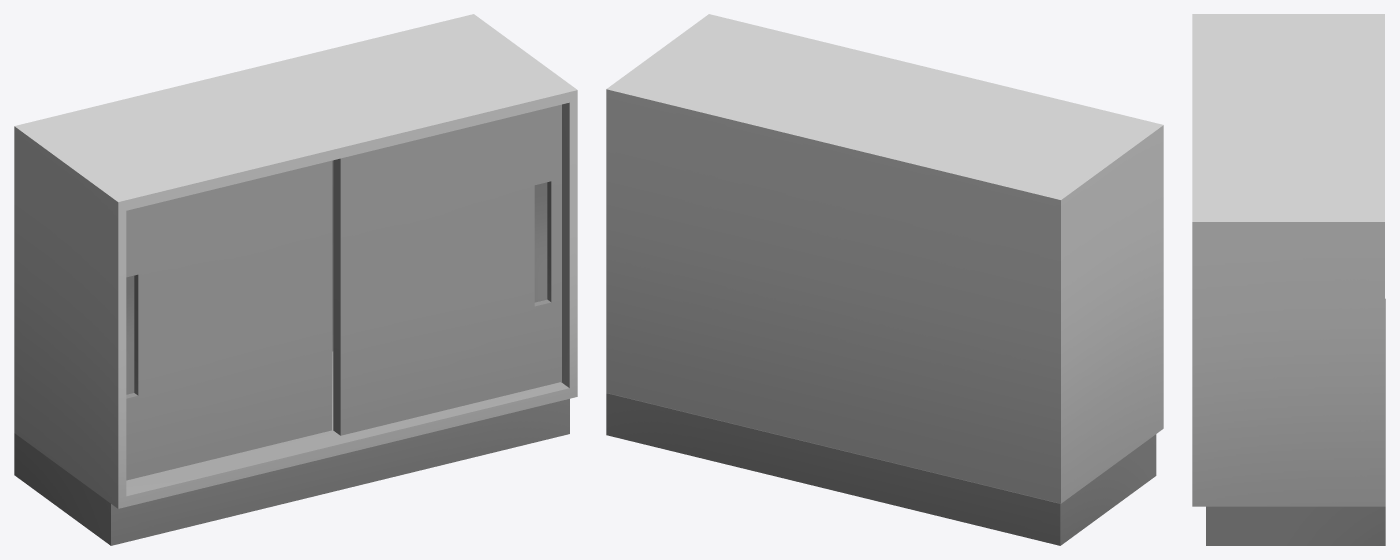
File: Chest5.FBX
3 renders of one model, left to right at view 1: azimuth 30°, elevation 25°; view 2: azimuth 150°, elevation 25°; view 3: azimuth 270°, elevation 25°, orthographic. The views are drawn at different scales.
Parts seen in each view (by area): view 1: chestbox5, Object005, Object019; view 2: chestbox5; view 3: chestbox5.
Part boxes in pixels (x1,y1,x2,y2): chestbox5: (14, 14, 577, 545); Object005: (333, 104, 561, 435); Object019: (126, 160, 331, 480); chestbox5: (606, 14, 1163, 545); chestbox5: (1192, 14, 1385, 545).
Bounding box in the file's own units: 37.1 × 26.94 × 14.57.
2 materials, 2 textured.
